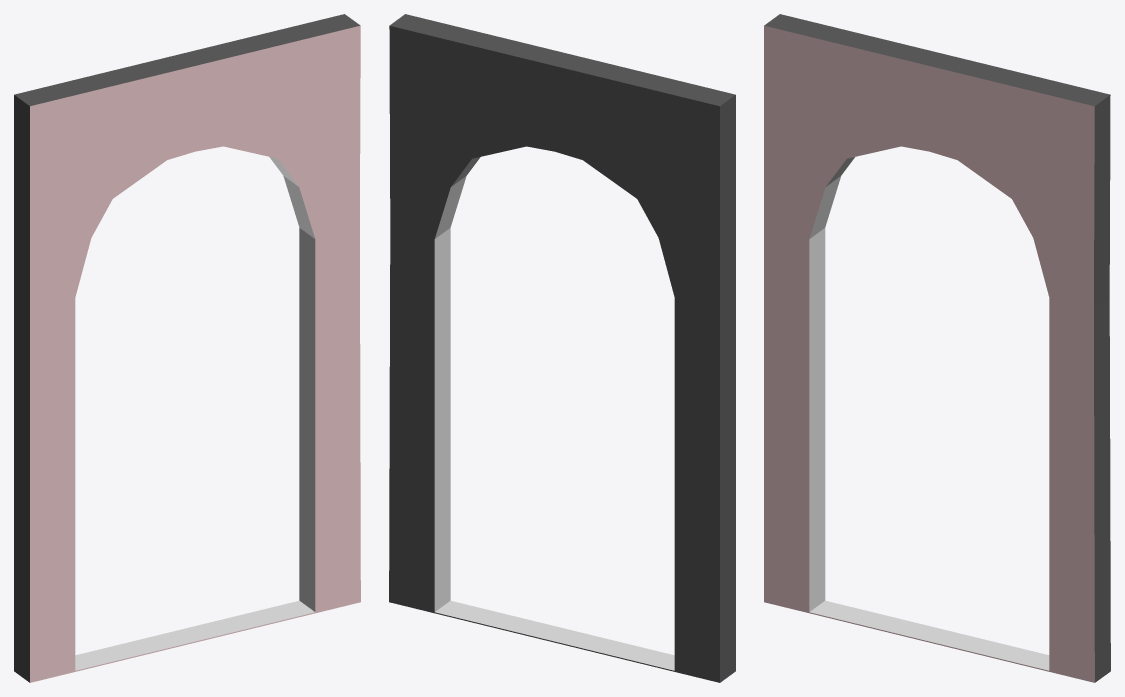
Rendered from Wall_2.fbx.
The picture shows the model from 3 angles, left to right: view 1: azimuth 30°, elevation 25°; view 2: azimuth 150°, elevation 25°; view 3: azimuth 330°, elevation 25°; orthographic projection.
Visible parts, largest first — view 1: Wall_2; view 2: Wall_2; view 3: Wall_2.
Part boxes in pixels (x1,y1,x2,y2): Wall_2: [14, 14, 360, 682]; Wall_2: [389, 14, 735, 682]; Wall_2: [764, 14, 1110, 682].
Bounding box in the file's own units: 120 × 200 × 10.
